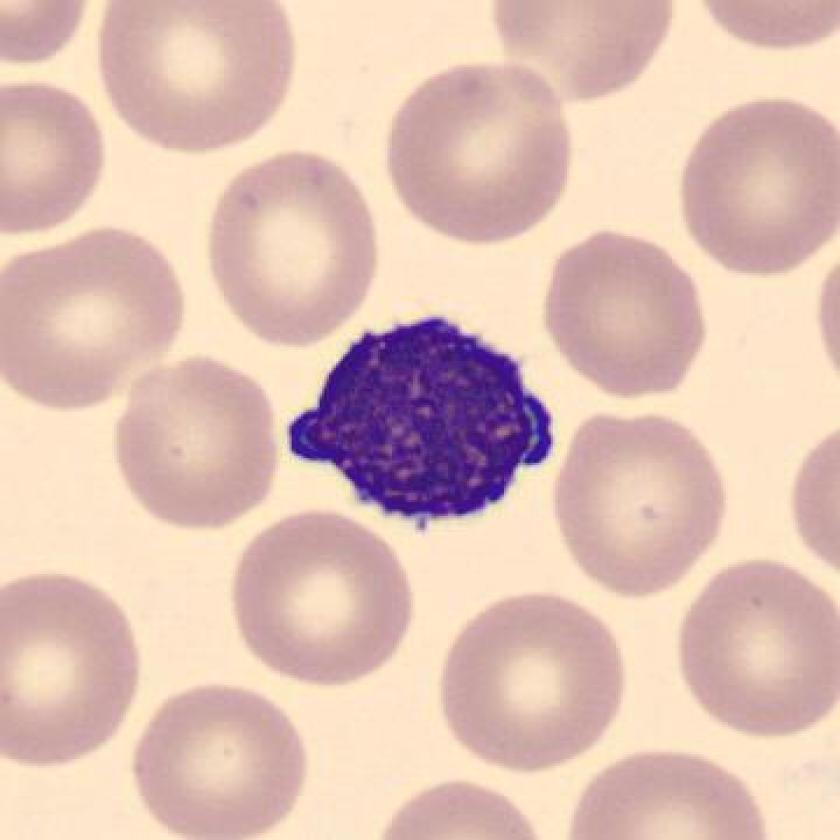lymphocyte: (276, 309, 566, 542)
